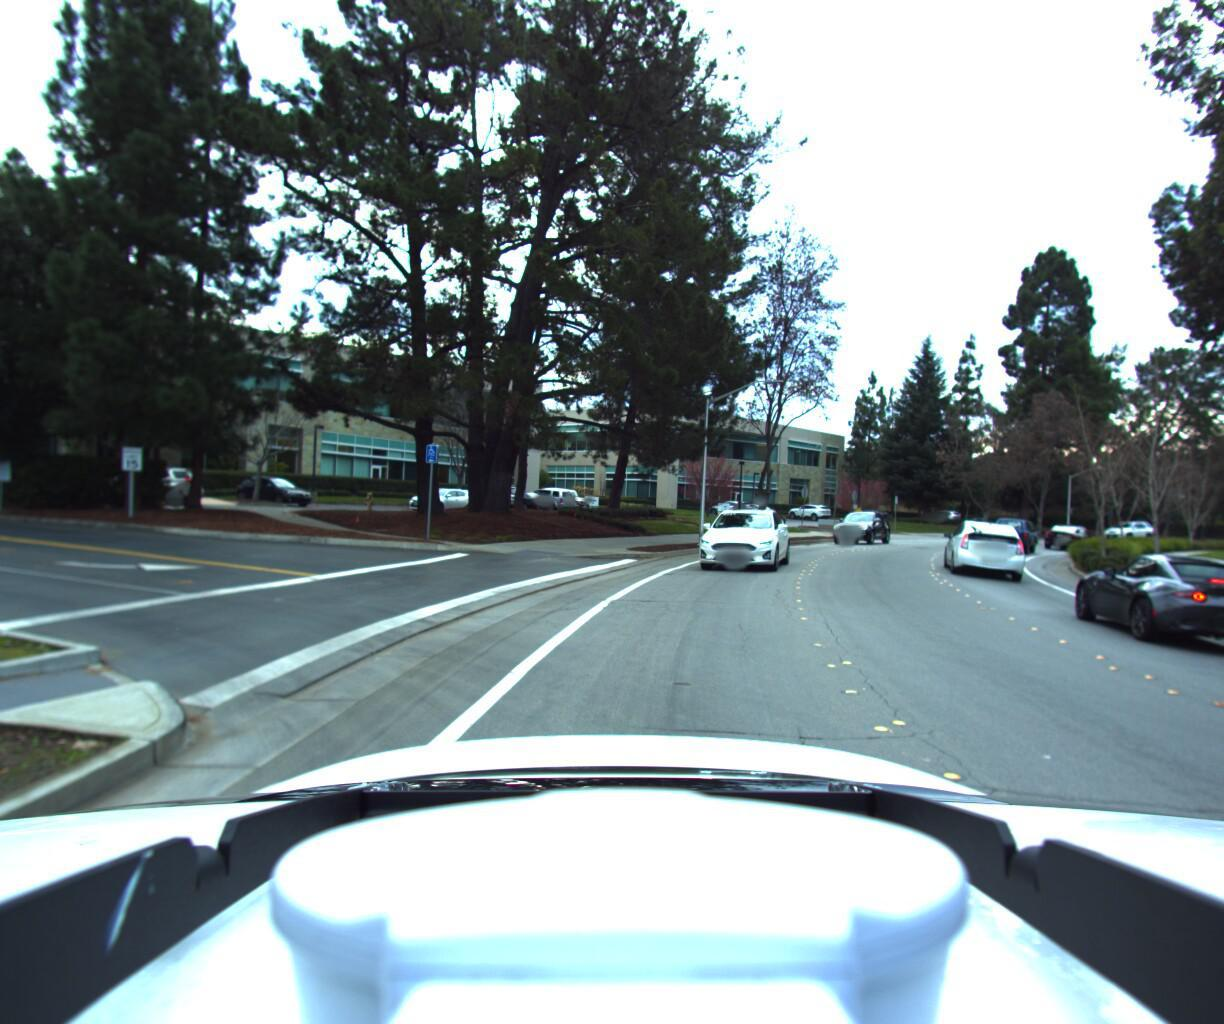car: (1058, 529, 1224, 651), (686, 500, 791, 575), (944, 516, 1031, 580), (819, 506, 889, 542), (990, 508, 1047, 548), (1042, 518, 1106, 547), (1090, 511, 1148, 536)
